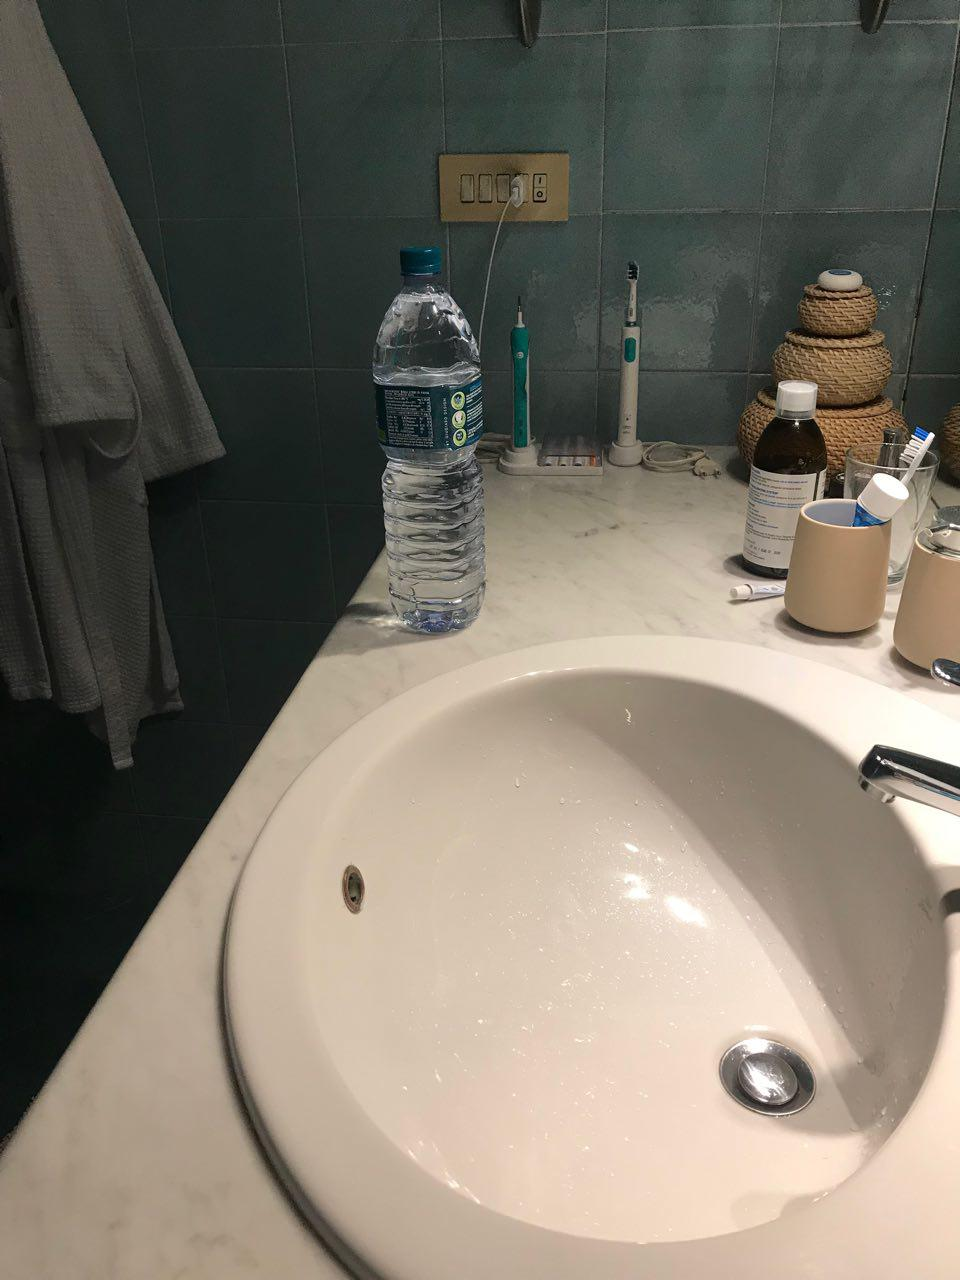san_bernardo: (371, 245, 487, 635)
